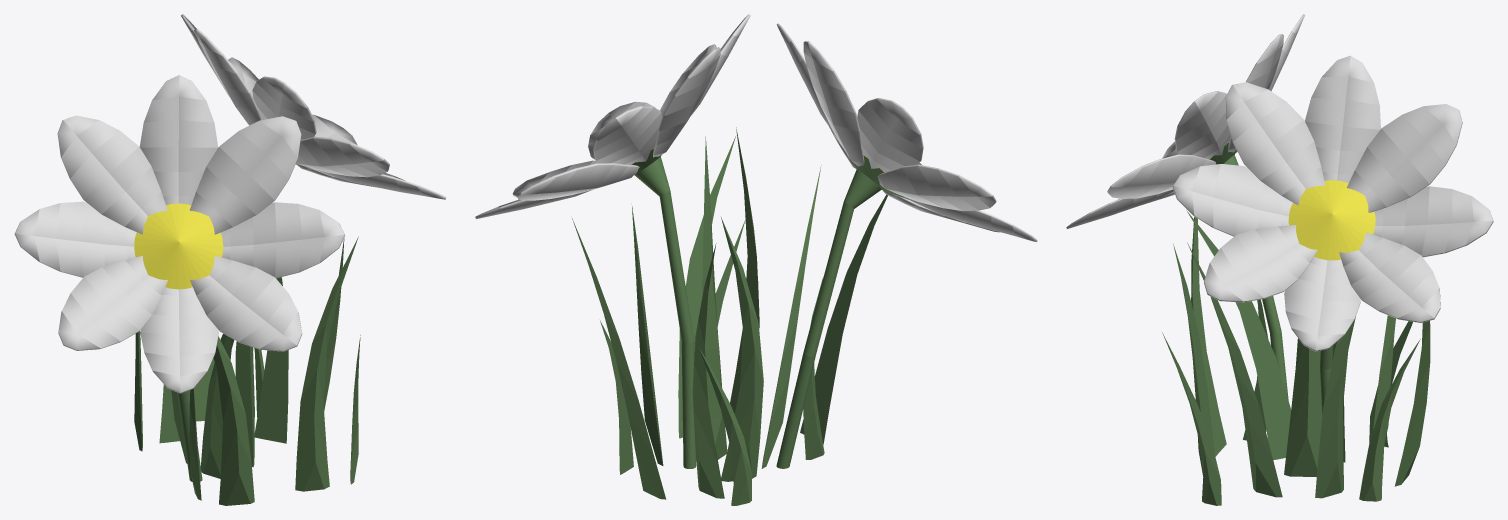
The model's file is Flower_W.fbx.
3 views of the same model, side by side, from view 1: azimuth 30°, elevation 25°; view 2: azimuth 150°, elevation 25°; view 3: azimuth 270°, elevation 25° (orthographic). The views are drawn at different scales.
Parts seen in each view (by area): view 1: Flower_W_LOD_0; view 2: Flower_W_LOD_0; view 3: Flower_W_LOD_0.
Part boxes in pixels (<box>): Flower_W_LOD_0: <box>14,14,446,505</box>; Flower_W_LOD_0: <box>475,14,1037,505</box>; Flower_W_LOD_0: <box>1066,14,1493,505</box>.
Size of what is drawn, in the model's own units: 44.79 by 41.03 by 38.89.
